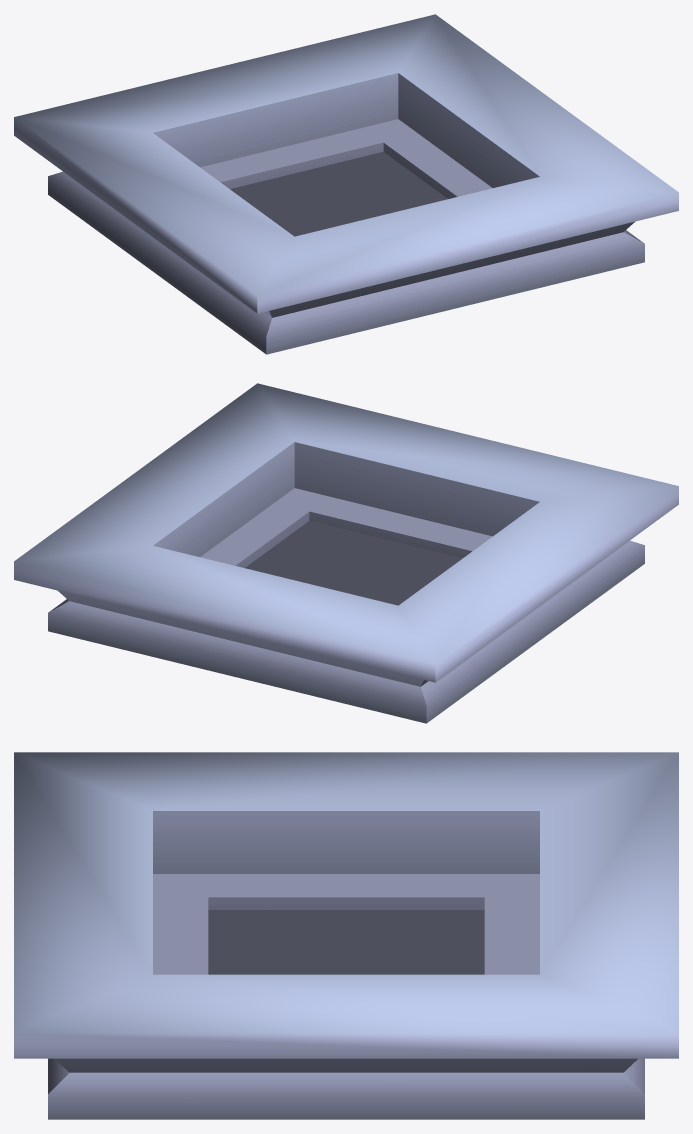
File: kenney-building-roof-flat-square.glb
The picture shows the model from 3 angles, top to bottom: view 1: azimuth 30°, elevation 25°; view 2: azimuth 150°, elevation 25°; view 3: azimuth 270°, elevation 25°; orthographic projection. The views are drawn at different scales.
Parts seen in each view (by area): view 1: roof-flat-square; view 2: roof-flat-square; view 3: roof-flat-square.
Boxes of the visible parts, <box> form: roof-flat-square: <box>14,14,678,354</box>; roof-flat-square: <box>14,383,678,723</box>; roof-flat-square: <box>14,752,678,1119</box>.
Size of the model in its own units: 2.39 by 0.3999 by 2.39.
Materials: 1 (1 with a texture image).
